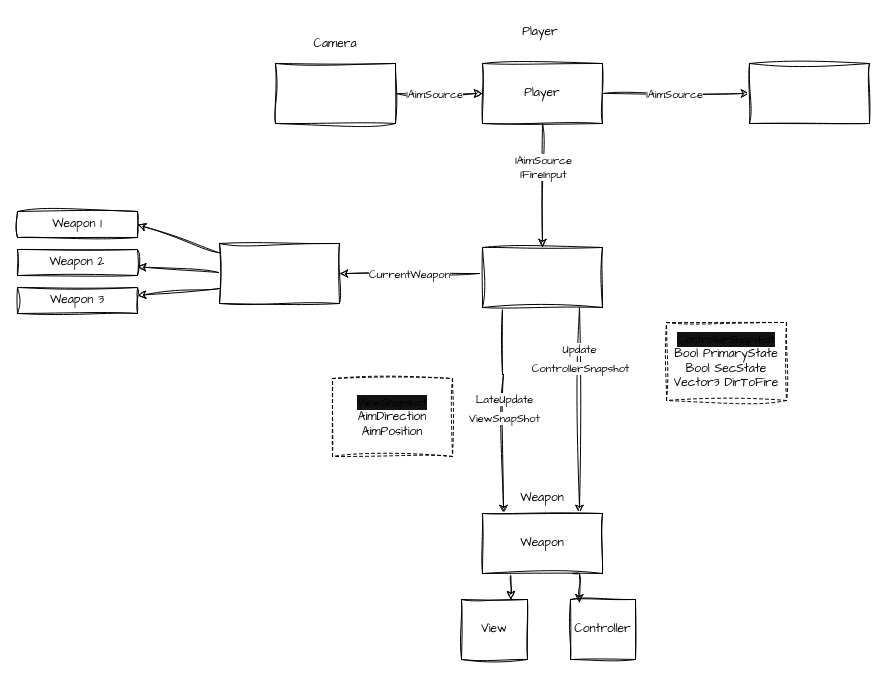
Some shapes in this 887 by 677 pixel diagram are drawn without their labels. The box of each missing label's shape, as (x1, y1, x2, y2) in pixels:
CameraController: (274, 62, 396, 124)
Inventory: (218, 242, 340, 304)
PlayerController: (748, 62, 870, 124)
System: (482, 246, 602, 308)
